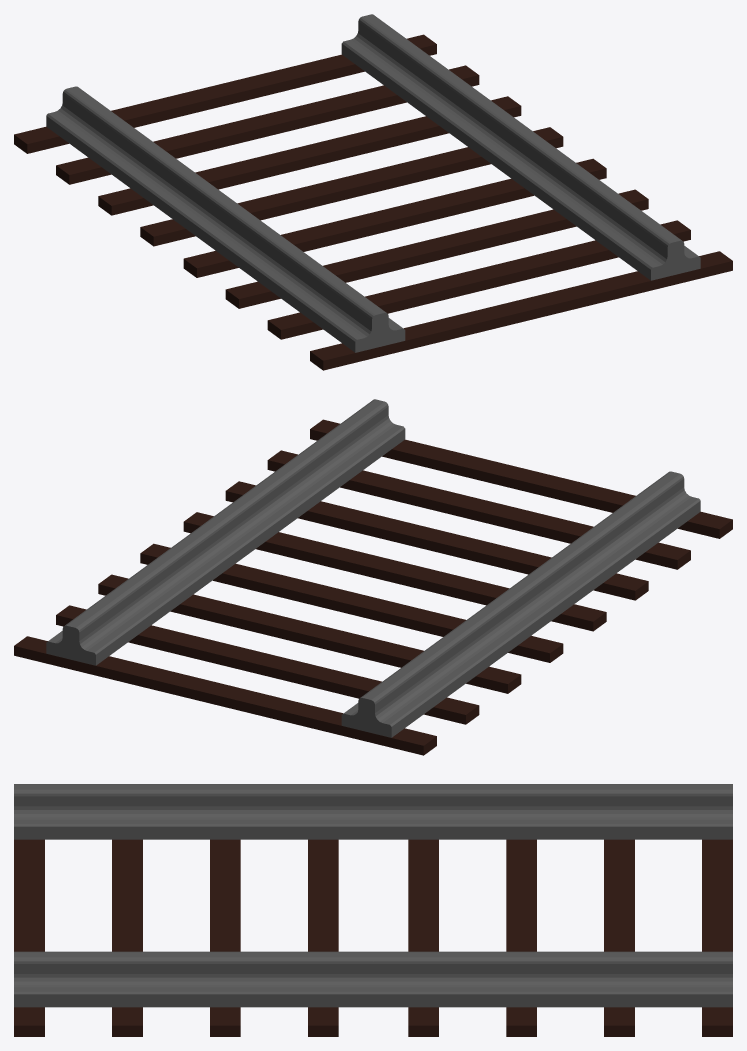
Rendered from rail.fbx.
3 views of the same model, one above another, from view 1: azimuth 30°, elevation 25°; view 2: azimuth 150°, elevation 25°; view 3: azimuth 270°, elevation 25° (orthographic). The views are drawn at different scales.
Visible parts, largest first — view 1: Cube; view 2: Cube; view 3: Cube.
Boxes of the visible parts, bbox=[...] form: Cube: bbox=[14, 14, 732, 370]; Cube: bbox=[14, 399, 732, 755]; Cube: bbox=[14, 784, 732, 1036].
Bounding box in the file's own units: 281 × 28.01 × 367.
